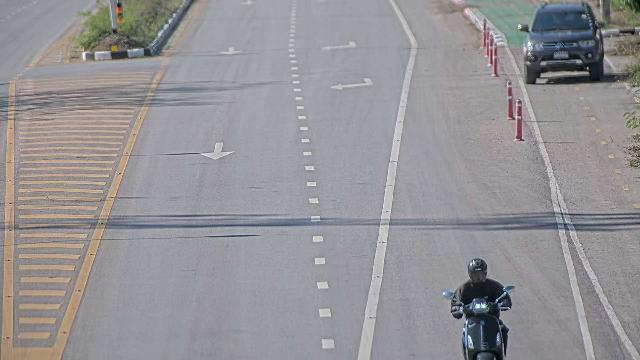motorcycle: (438, 255, 510, 357)
pickup-truck: (517, 1, 605, 84)
